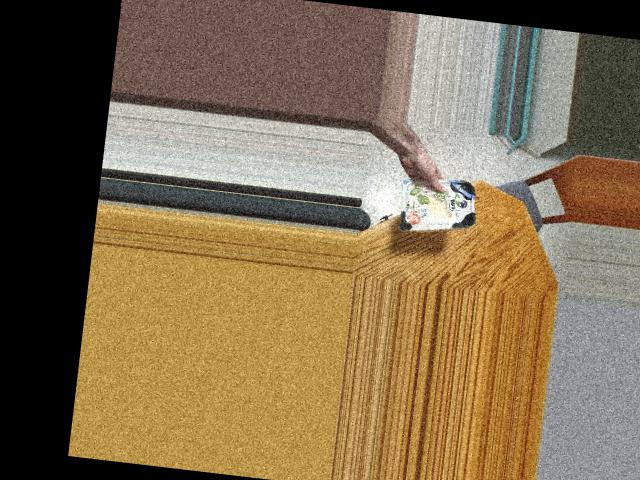cheese: (397, 164, 478, 239)
